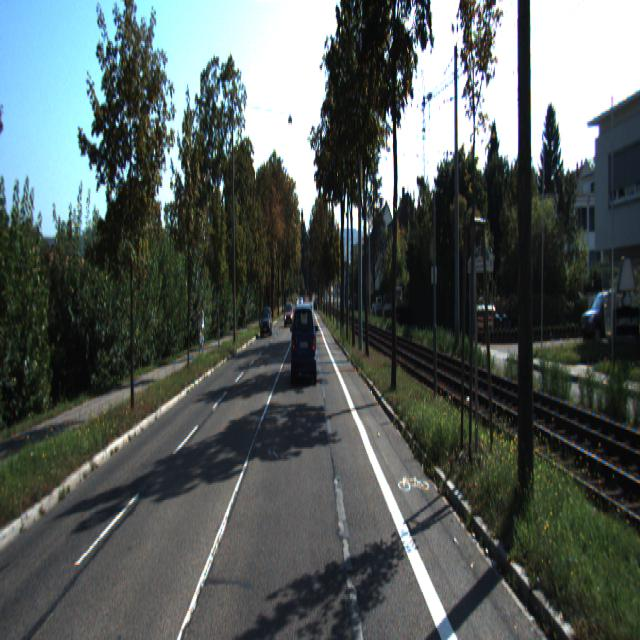Car: (290, 301, 318, 388), (260, 308, 273, 339), (284, 303, 294, 328)
